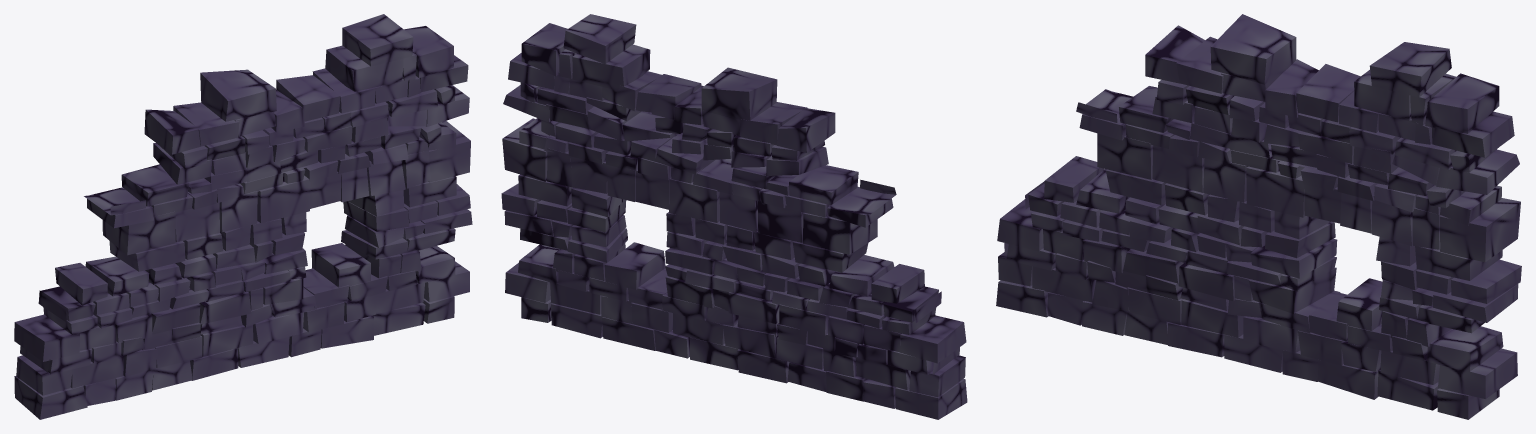
The model's file is SM_Ruins_01.fbx.
3 views of the same model, side by side, from view 1: azimuth 30°, elevation 25°; view 2: azimuth 150°, elevation 25°; view 3: azimuth 330°, elevation 25° (orthographic). The views are drawn at different scales.
Visible parts, largest first — view 1: Wall.001; view 2: Wall.001; view 3: Wall.001.
Boxes of the visible parts, x1=… form: Wall.001: x1=14, y1=14, x2=472, y2=419; Wall.001: x1=501, y1=14, x2=967, y2=419; Wall.001: x1=996, y1=14, x2=1521, y2=419.
Bounding box in the file's own units: 226 × 148 × 30.76.
1 material, 1 textured.
